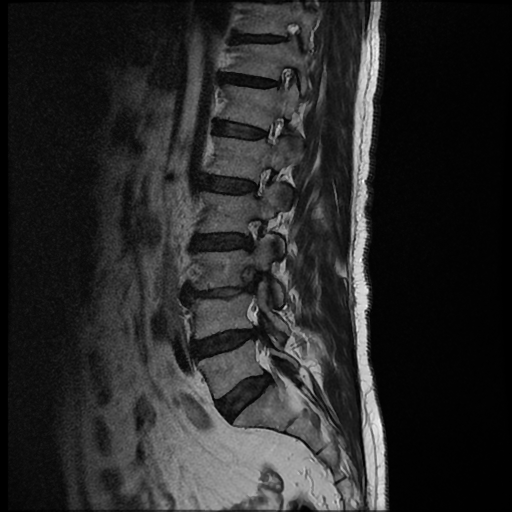RFS0: (232, 211, 272, 256), (238, 160, 277, 206)
